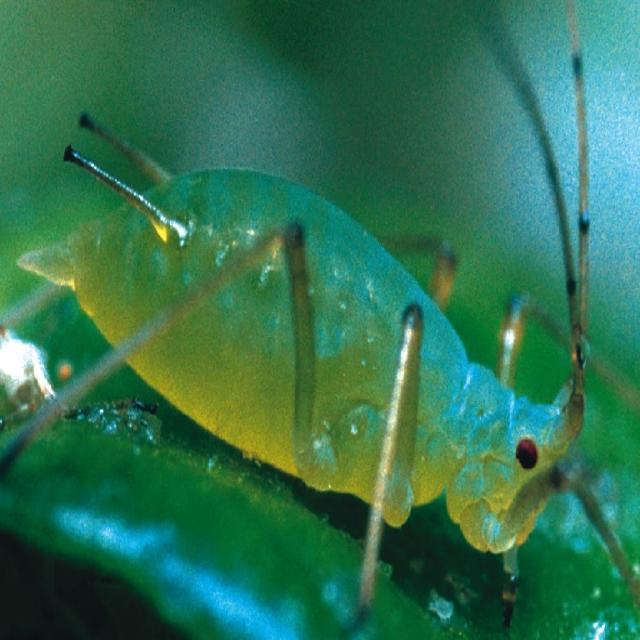Aphid-Grown-: (18, 88, 623, 613)
